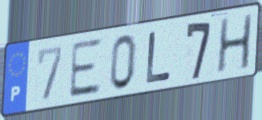0: (108, 31, 139, 93)
7: (36, 44, 64, 104), (186, 20, 212, 81)
E: (67, 36, 103, 101)
H: (215, 12, 254, 76)
L: (144, 29, 173, 86)
